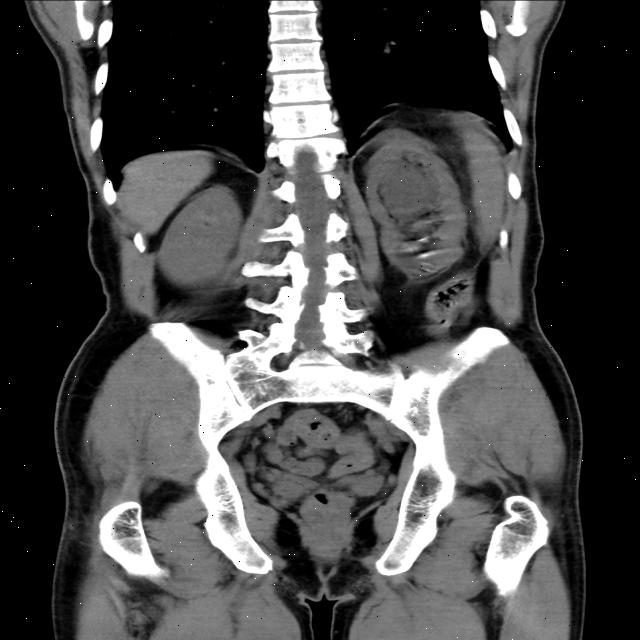kidneystone: (409, 225, 423, 237)
